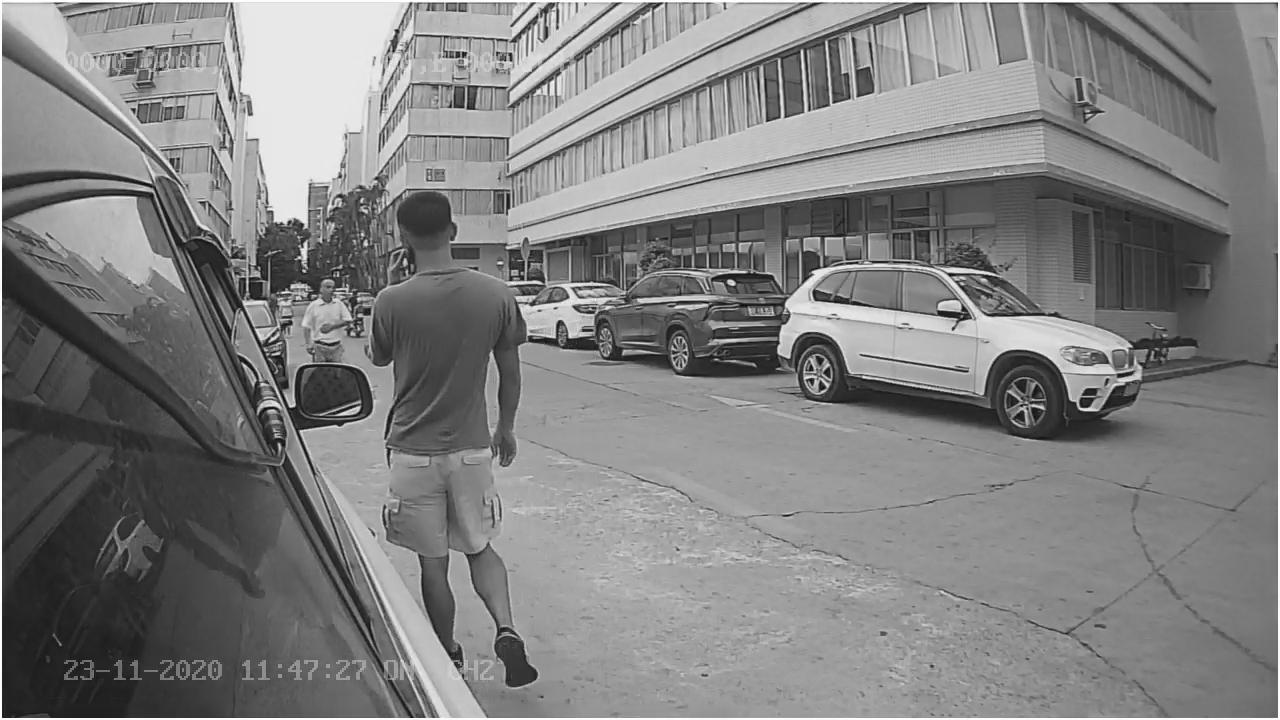person: (368, 185, 534, 462)
